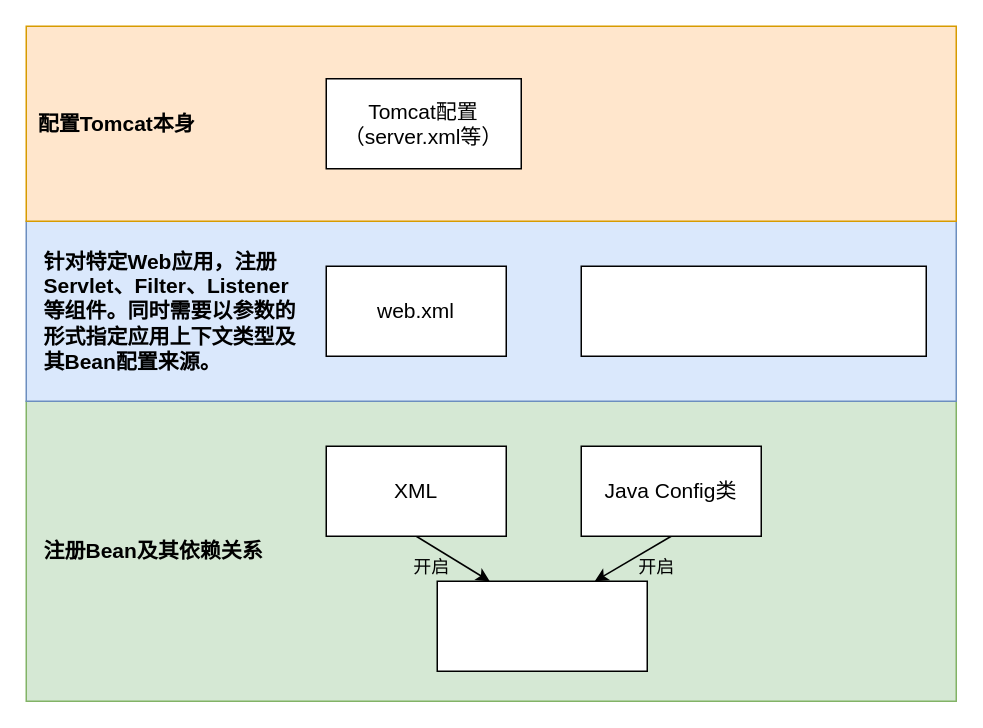
This 983x728 diagram has some shape labels left out. Each missing label, with the centre of its shape:
"ServletContainerInitializer （委托给WebApplicationInitializer）" belongs at (753,310).
"自动发现、自动装配" belongs at (541,625).
